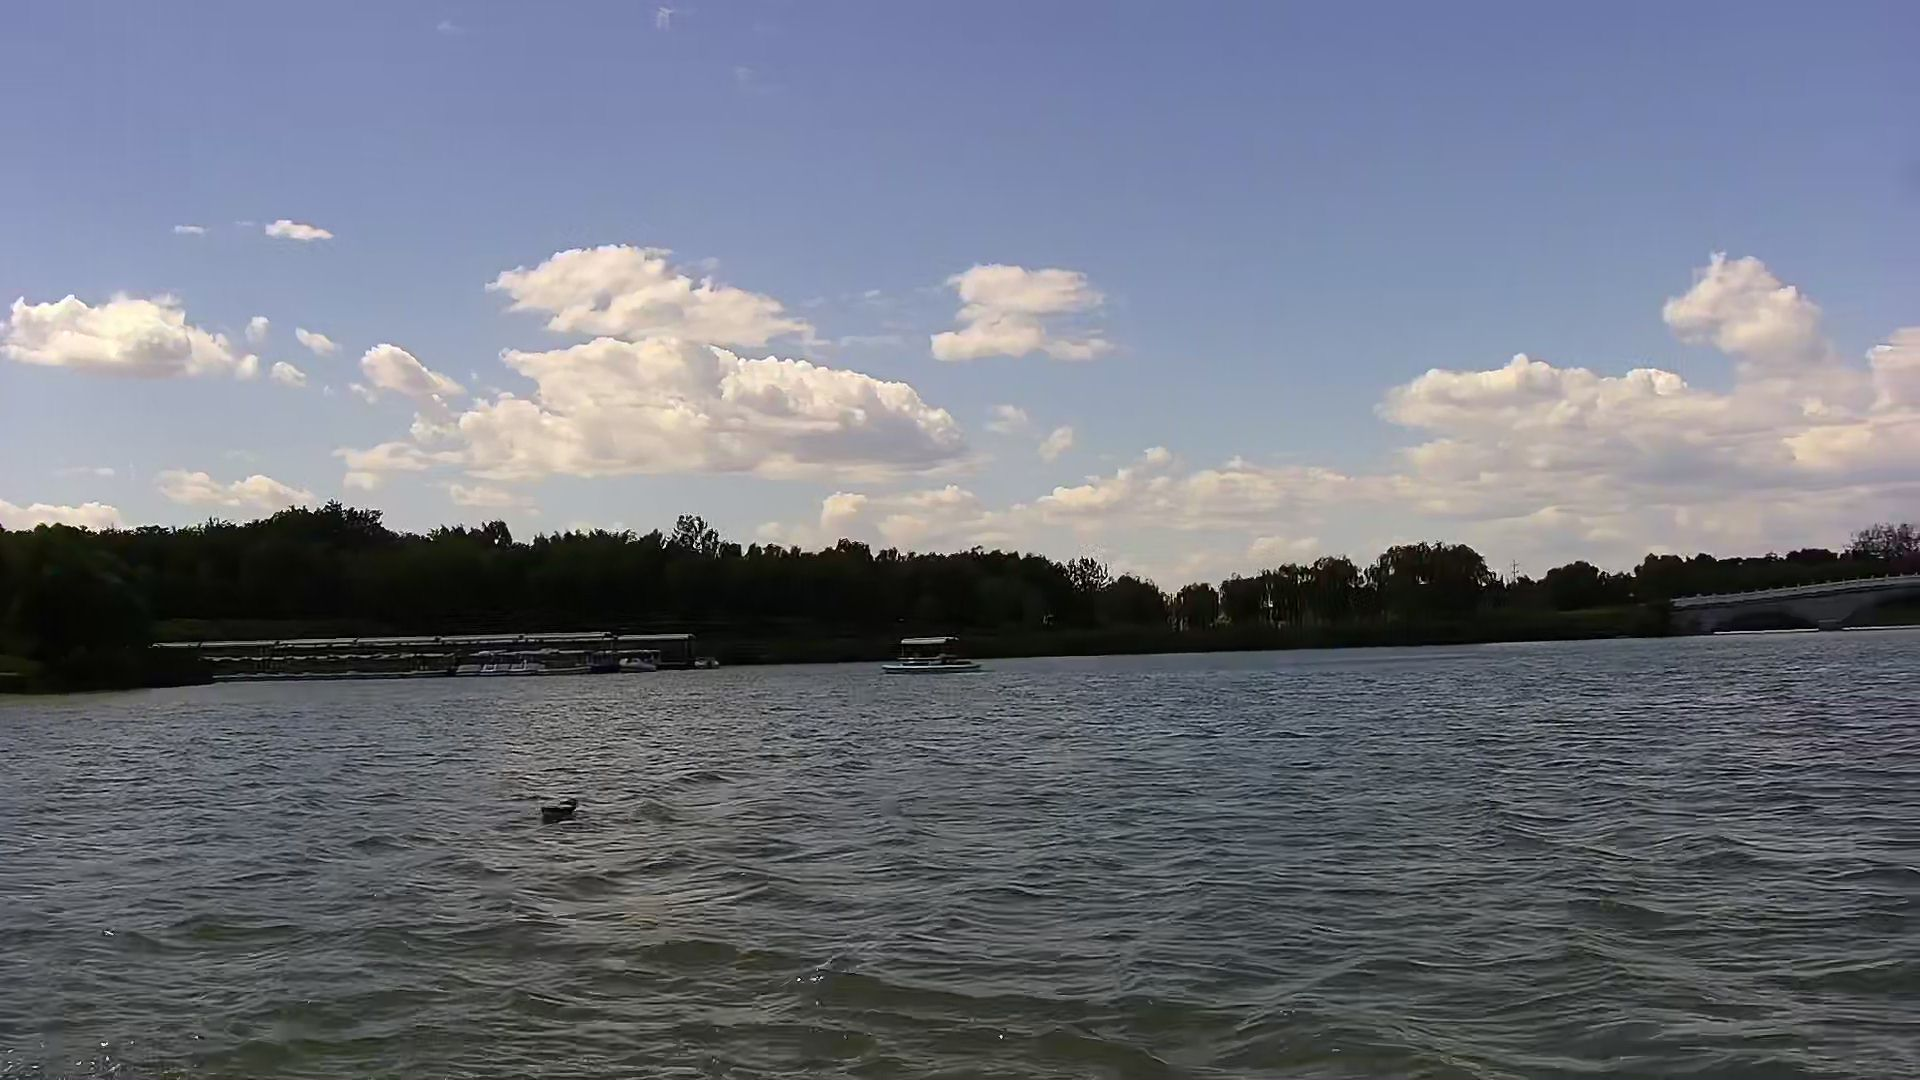animal: (530, 796, 582, 828)
boat: (885, 637, 992, 678)
bridge: (1677, 574, 1920, 629)
harbor: (158, 636, 702, 680)
